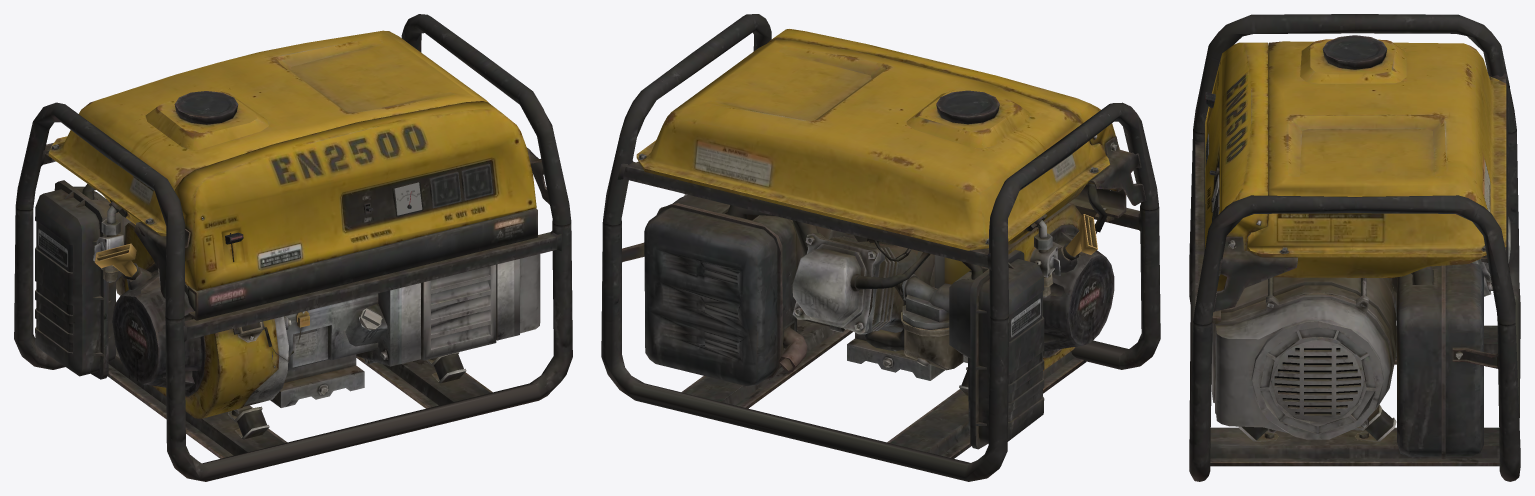
The model's file is portable_generator.glb.
3 views of the same model, side by side, from view 1: azimuth 30°, elevation 25°; view 2: azimuth 150°, elevation 25°; view 3: azimuth 270°, elevation 25° (orthographic).
Visible parts, largest first — view 1: portable_generator; view 2: portable_generator; view 3: portable_generator.
Part boxes in pixels (x1,y1,x2,y2): portable_generator: [14, 14, 572, 481]; portable_generator: [601, 14, 1160, 481]; portable_generator: [1189, 14, 1520, 481].
Bounding box in the file's own units: 0.8169 × 0.5752 × 0.564.
2 materials, 2 textured.
